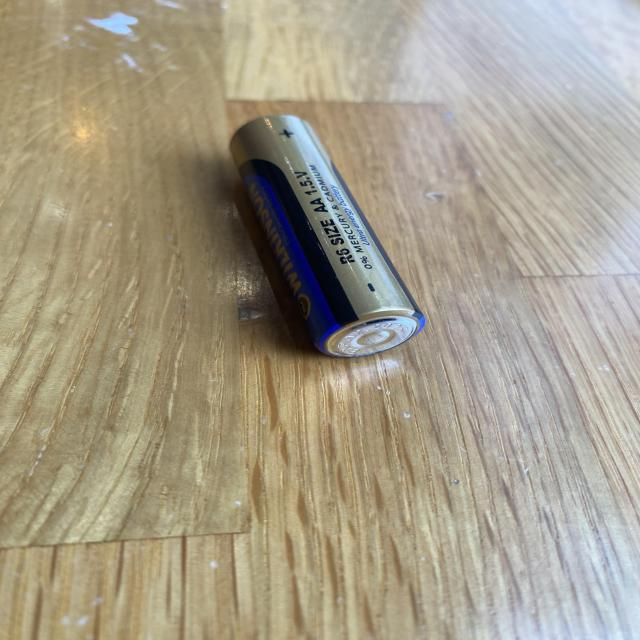AA: (227, 113, 427, 358)
